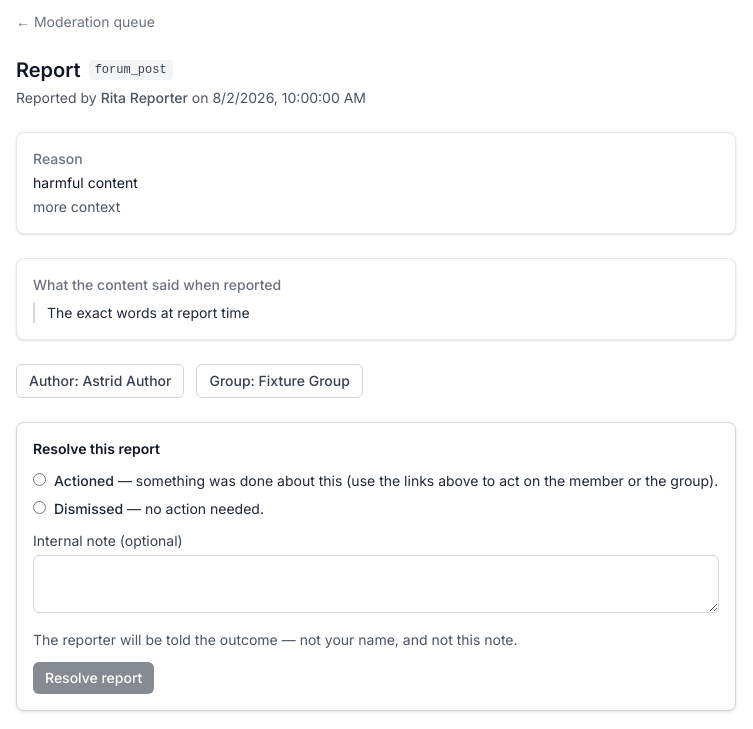
Scenario: AdminReportDetail (FEAT-H037 STORY-2/3) › the resolve panel: consequence copy names what the reporter will and will not learn; confirm disabled until an outcome is chosen
The width and height of the screenshot is (753, 729).
Check: the element with test id "resolve-panel" shows "the reporter will be told the outcome", box x1=33 y1=631 x2=518 y2=648
Check: the element with test id "resolve-panel" shows "not your name", box x1=33 y1=631 x2=518 y2=648
Click the radio button labelled "Dismissed — no action needed." at (40, 508), box x1=33 y1=501 x2=46 y2=514
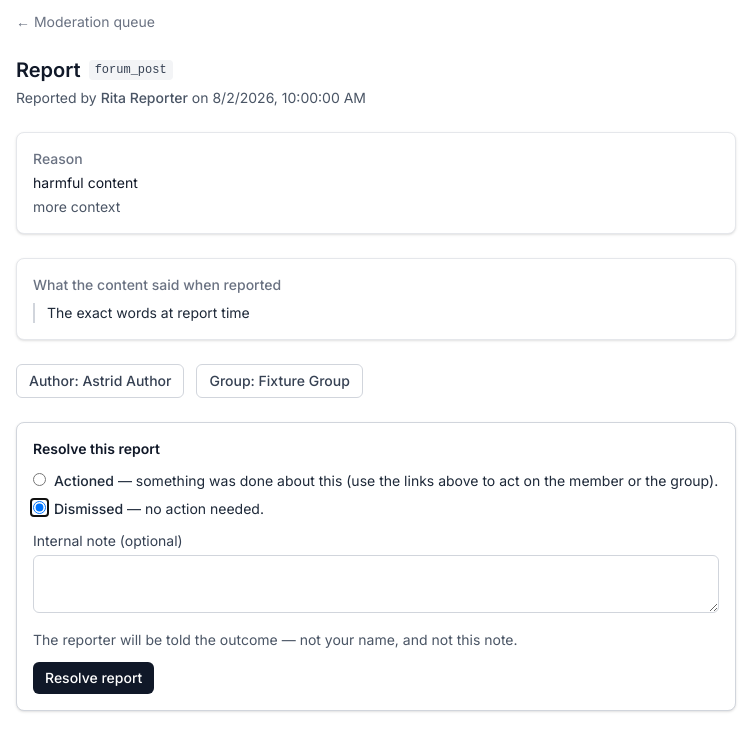
Check: the button "Resolve report" is enabled, box x1=33 y1=662 x2=154 y2=694
